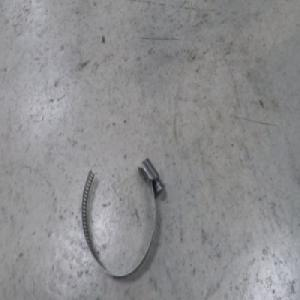AdjustableClamp: (78, 154, 161, 277)
